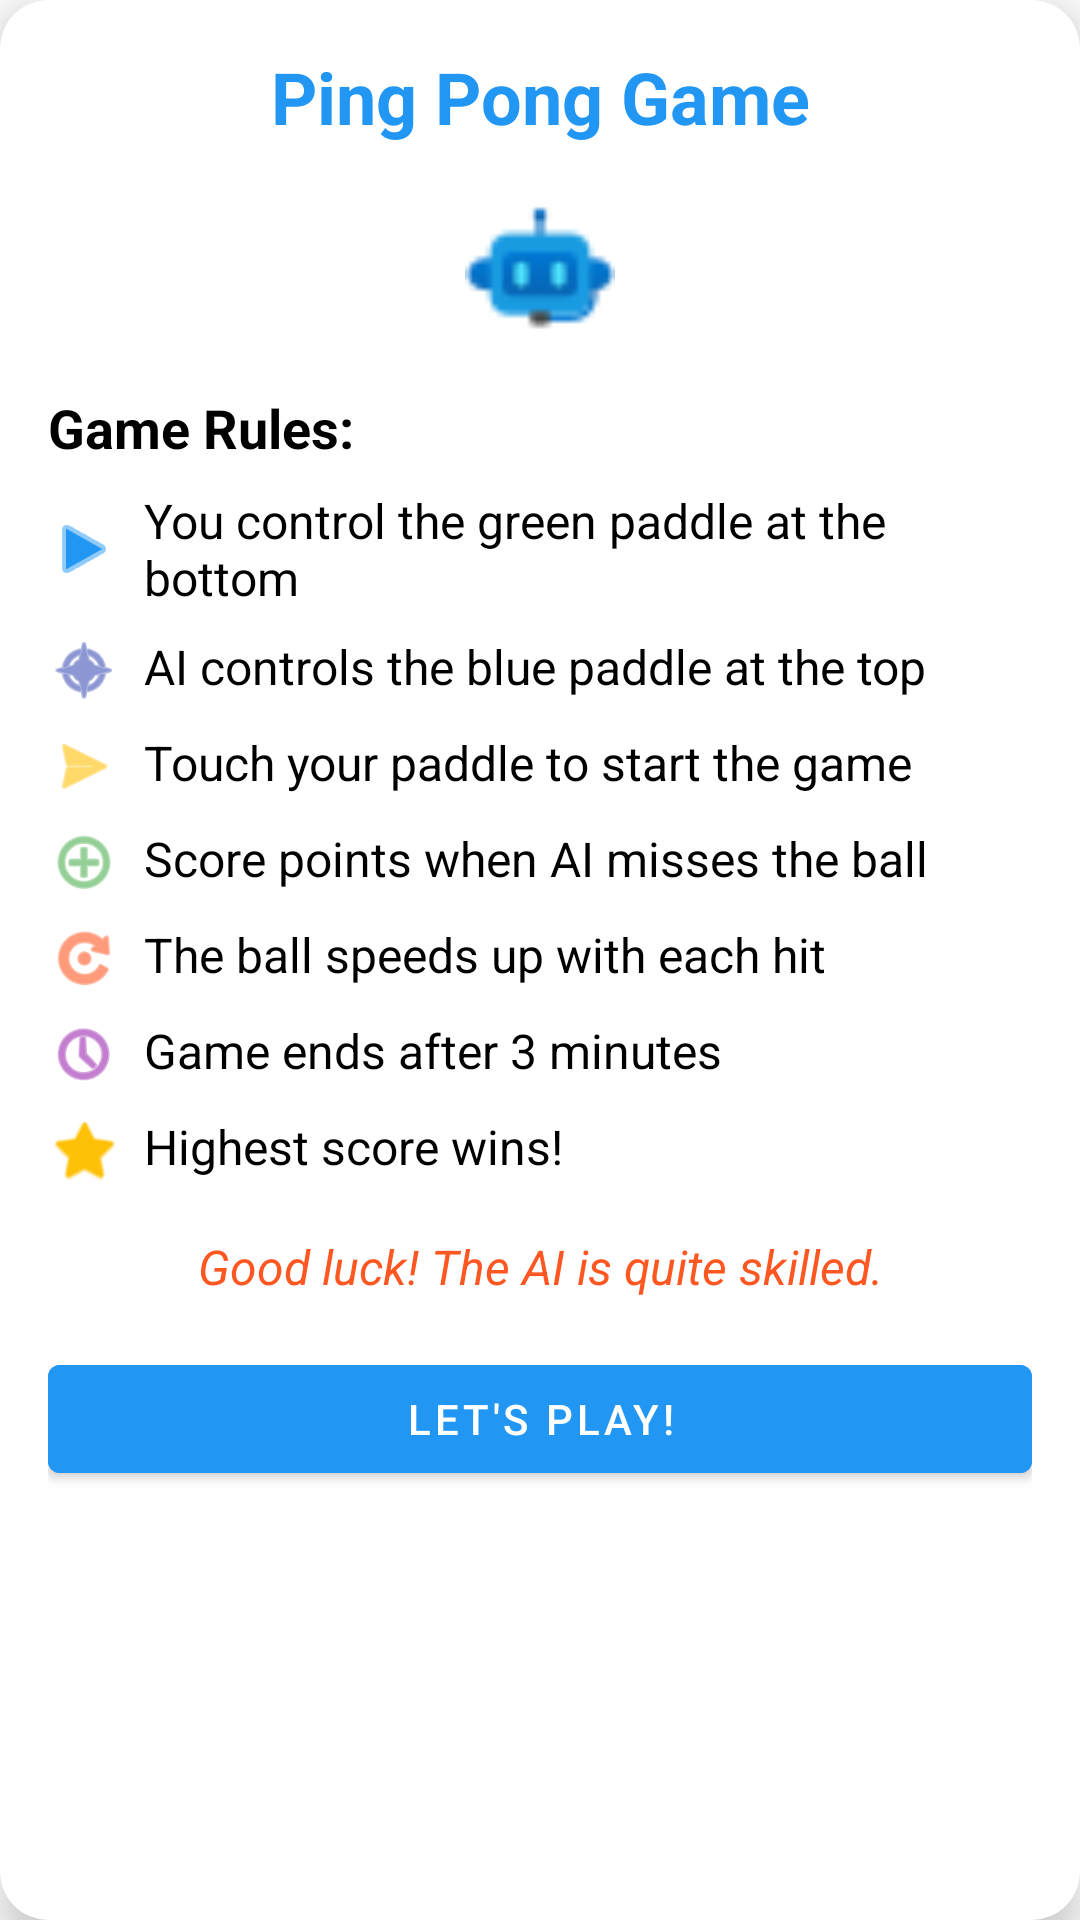

Locate icon controls on the screen. Image size 1080px×1920px, boxes as (x1, y1, x2, y2).
add: (57, 836, 111, 889)
chat bot: (465, 207, 615, 328)
compass: (55, 642, 112, 699)
play: (62, 525, 106, 573)
recent history: (58, 1028, 110, 1080)
rotate: (58, 931, 110, 985)
send: (62, 744, 108, 789)
star on: (54, 1121, 115, 1180)
